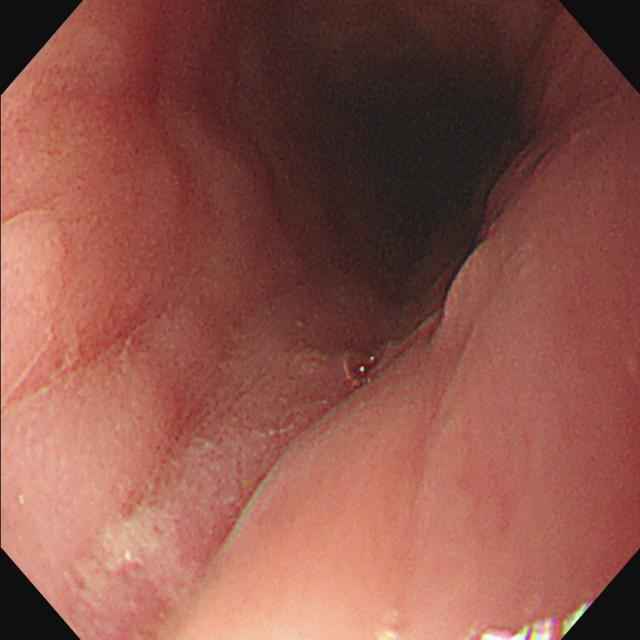E: (280, 52, 523, 304)
T: (343, 338, 390, 386)
U: (472, 601, 589, 640)
